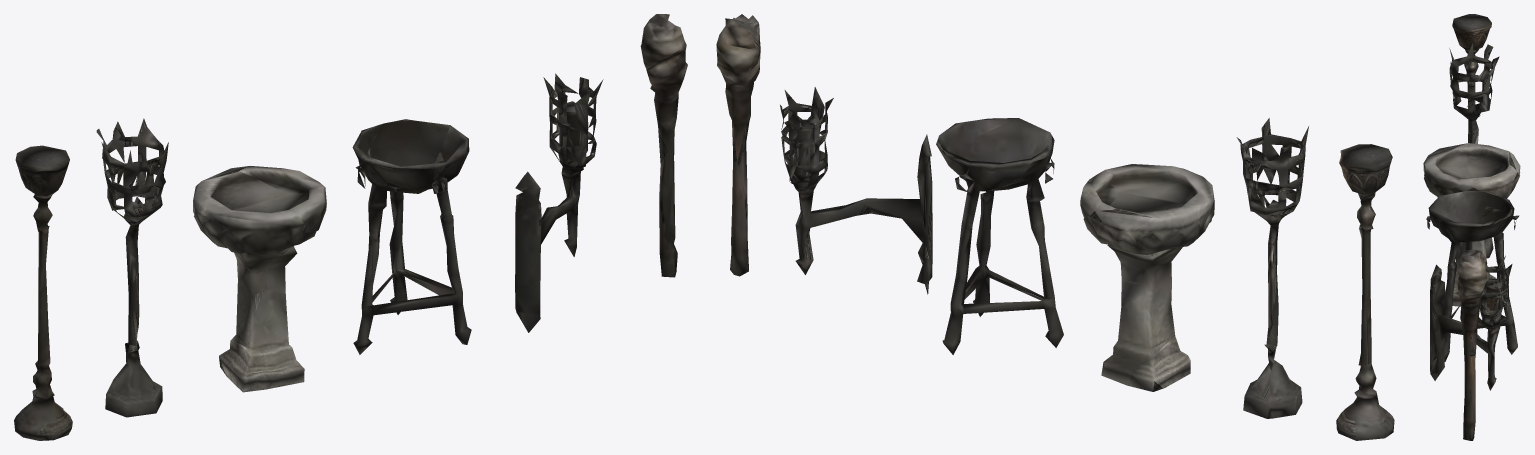
Rendered from lamps_torches_braziers.glb.
3 views of the same model, side by side, from view 1: azimuth 30°, elevation 25°; view 2: azimuth 150°, elevation 25°; view 3: azimuth 270°, elevation 25° (orthographic). The views are drawn at different scales.
Parts seen in each view (by area): view 1: fire_bowl_stone, brazier_tripod, torch_wall, fire_basket_pole, torch_pole, torch_hand; view 2: fire_bowl_stone, brazier_tripod, torch_wall, fire_basket_pole, torch_pole, torch_hand; view 3: brazier_tripod, fire_bowl_stone, torch_wall, torch_hand, fire_basket_pole, torch_pole.
Part boxes in pixels (left/top/right/bottom): fire_bowl_stone: left=193, top=166, right=326, bottom=392; brazier_tripod: left=352, top=119, right=471, bottom=354; torch_wall: left=515, top=73, right=603, bottom=332; fire_basket_pole: left=96, top=118, right=168, bottom=417; torch_pole: left=14, top=145, right=72, bottom=440; torch_hand: left=640, top=14, right=687, bottom=277; fire_bowl_stone: left=1080, top=164, right=1214, bottom=391; brazier_tripod: left=936, top=118, right=1063, bottom=354; torch_wall: left=780, top=87, right=932, bottom=294; fire_basket_pole: left=1236, top=118, right=1308, bottom=418; torch_pole: left=1336, top=144, right=1394, bottom=440; torch_hand: left=716, top=14, right=760, bottom=276; brazier_tripod: left=1426, top=191, right=1519, bottom=361; fire_bowl_stone: left=1423, top=143, right=1520, bottom=306; torch_wall: left=1430, top=253, right=1512, bottom=390; torch_hand: left=1456, top=249, right=1488, bottom=440; fire_basket_pole: left=1449, top=43, right=1499, bottom=258; torch_pole: left=1452, top=14, right=1491, bottom=142.
Bounding box in the file's own units: 1.26 × 0.4935 × 0.2189.
Materials: 1 (1 with a texture image).
